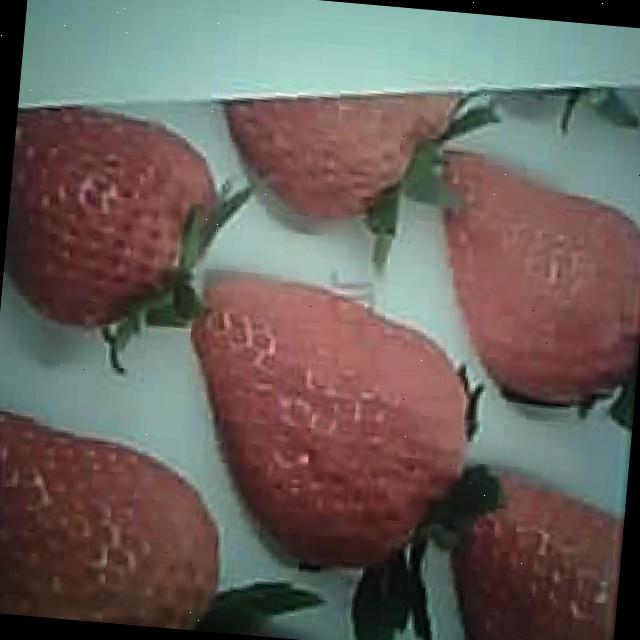strawberry: (190, 270, 479, 578), (421, 151, 640, 407), (0, 95, 224, 334), (0, 407, 223, 631)
